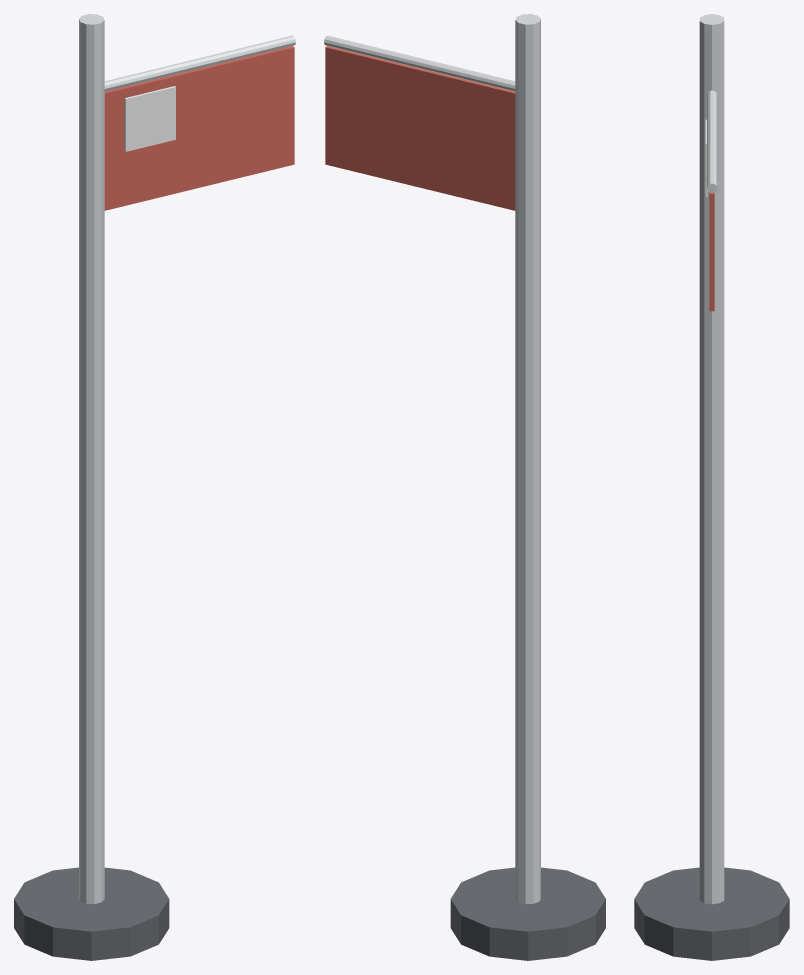
Rendered from solar-system-and-astronauts-moon-flag-287daf27__39248.glb.
3 views of the same model, side by side, from view 1: azimuth 30°, elevation 25°; view 2: azimuth 150°, elevation 25°; view 3: azimuth 270°, elevation 25° (orthographic).
Visible parts, largest first — view 1: moon-flag; view 2: moon-flag; view 3: moon-flag.
Boxes of the visible parts, box(x1,y1,x2,y2) form: moon-flag: box(14, 14, 295, 960); moon-flag: box(324, 14, 605, 960); moon-flag: box(634, 14, 789, 960).
Size of the model in its own units: 0.48 by 1.55 by 0.24.
